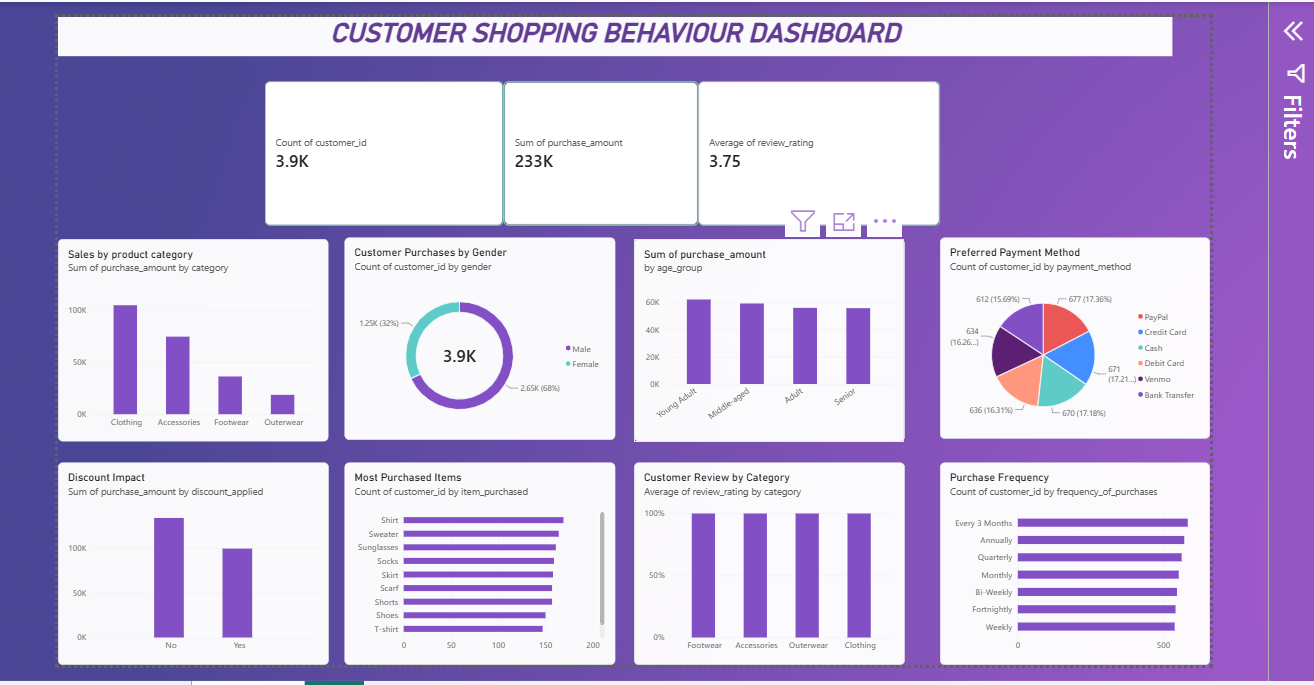

The page's visual inventory and layout, read from the dashboard file:
{"tool":"powerbi","page":{"name":"Page 1","canvas":[1920,1080],"ordinal":0},"visuals":[{"type":"cardVisual","fields":{"Data":["CountNonNull(customer_behavior_cleaned.customer_id)"]},"box":[345,107.5,397.5,240],"z":0},{"type":"cardVisual","fields":{"Data":["Sum(customer_behavior_cleaned.purchase_amount)"]},"box":[742.5,107.5,325,240],"z":1000},{"type":"cardVisual","fields":{"Data":["Avg(customer_behavior_cleaned.review_rating)"]},"box":[1067.5,107.5,402.5,240],"z":2000},{"type":"clusteredColumnChart","title":"Sales by product category","fields":{"Category":["customer_behavior_cleaned.category"],"Y":["Sum(customer_behavior_cleaned.purchase_amount)"]},"box":[0,370,450.7,337.3],"z":3000},{"type":"donutChart","title":"Customer Purchases by Gender","fields":{"Category":["customer_behavior_cleaned.gender"],"Y":["CountNonNull(customer_behavior_cleaned.customer_id)"]},"box":[477.5,367.5,451,337],"z":4000},{"type":"clusteredColumnChart","fields":{"Category":["customer_behavior_cleaned.age_group"],"Y":["Sum(customer_behavior_cleaned.purchase_amount)"]},"box":[960,370,451,337],"z":5000},{"type":"columnChart","title":"Discount Impact","fields":{"Category":["customer_behavior_cleaned.discount_applied"],"Y":["Sum(customer_behavior_cleaned.purchase_amount)"]},"box":[0,742.5,451,337],"z":6000},{"type":"clusteredBarChart","title":"Most Purchased Items","fields":{"Category":["customer_behavior_cleaned.item_purchased"],"Y":["CountNonNull(customer_behavior_cleaned.customer_id)"]},"box":[477.5,742.5,451,337],"z":7000},{"type":"hundredPercentStackedColumnChart","title":"Customer Review by Category","fields":{"Category":["customer_behavior_cleaned.category"],"Y":["Avg(customer_behavior_cleaned.review_rating)"]},"box":[960,742.5,451,337],"z":8000},{"type":"pieChart","title":"Preferred Payment Method","fields":{"Category":["customer_behavior_cleaned.payment_method"],"Y":["CountNonNull(customer_behavior_cleaned.customer_id)"]},"box":[1470,367.5,450,335],"z":9000},{"type":"clusteredBarChart","title":"Purchase Frequency","fields":{"Category":["customer_behavior_cleaned.frequency_of_purchases"],"Y":["CountNonNull(customer_behavior_cleaned.customer_id)"]},"box":[1470,743,450,337],"z":9001},{"type":"shape","title":"CUSTOMER SHOPPING BEHAVIOUR DASHBOARD","box":[0,0,1857.5,65],"z":9002}]}

Visuals, with their boxes in screenshot pixels (x1, y1, x2, y2):
cardVisual - CountNonNull(customer_behavior_cleaned.customer_id): bbox=[259, 78, 499, 223]
cardVisual - Sum(customer_behavior_cleaned.purchase_amount): bbox=[499, 78, 695, 223]
cardVisual - Avg(customer_behavior_cleaned.review_rating): bbox=[695, 78, 937, 223]
"Sales by product category" clusteredColumnChart: bbox=[51, 237, 323, 440]
"Customer Purchases by Gender" donutChart: bbox=[339, 235, 611, 438]
clusteredColumnChart - customer_behavior_cleaned.age_group x Sum(customer_behavior_cleaned.purchase_amount): bbox=[630, 237, 902, 440]
"Discount Impact" columnChart: bbox=[51, 461, 323, 664]
"Most Purchased Items" clusteredBarChart: bbox=[339, 461, 611, 664]
"Customer Review by Category" hundredPercentStackedColumnChart: bbox=[630, 461, 902, 664]
"Preferred Payment Method" pieChart: bbox=[937, 235, 1209, 437]
"Purchase Frequency" clusteredBarChart: bbox=[937, 462, 1209, 665]
"CUSTOMER SHOPPING BEHAVIOUR DASHBOARD" shape: bbox=[51, 14, 1171, 53]
